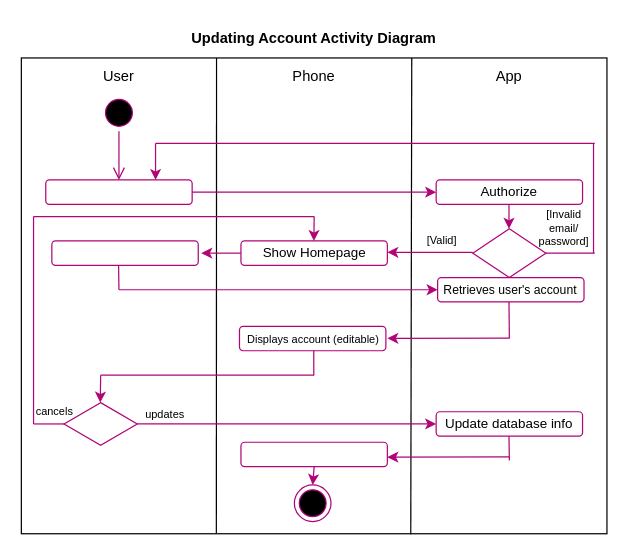
Some shapes in this 628 by 556 pixel diagram are drawn without their labels. Each missing label, with the centre of its shape:
"Displays updated account" belongs at point (313, 454).
"Log in" belongs at point (118, 191).
"Request to update account" belongs at point (124, 252).
